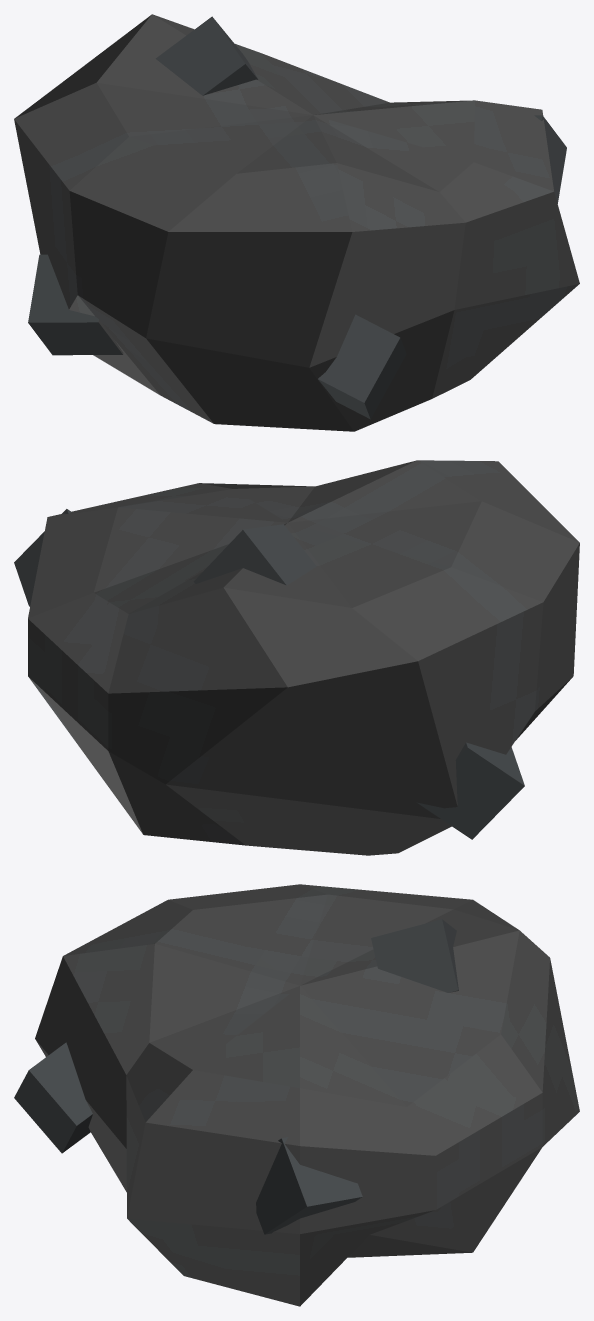
File: meteor2.fbx
3 renders of one model, top to bottom at view 1: azimuth 30°, elevation 25°; view 2: azimuth 150°, elevation 25°; view 3: azimuth 270°, elevation 25°, orthographic. The views are drawn at different scales.
Parts seen in each view (by area): view 1: meteorBase, meteorcube2, meteorcube4, meteorcube1, meteorcube3; view 2: meteorBase, meteorcube4, meteorcube1, meteorcube3; view 3: meteorBase, meteorcube2, meteorcube3, meteorcube1.
Boxes of the visible parts, <box> form: meteorBase: <box>14,14,579,431</box>; meteorcube2: <box>318,314,406,419</box>; meteorcube4: <box>28,254,123,355</box>; meteorcube1: <box>155,16,258,95</box>; meteorcube3: <box>534,115,566,203</box>; meteorBase: <box>28,460,579,855</box>; meteorcube4: <box>416,742,524,839</box>; meteorcube1: <box>193,524,316,585</box>; meteorcube3: <box>14,509,71,606</box>; meteorBase: <box>35,884,579,1306</box>; meteorcube2: <box>14,1042,92,1153</box>; meteorcube3: <box>256,1137,362,1234</box>; meteorcube1: <box>371,919,458,992</box>.
Size of the model in its own units: 98 by 59.72 by 94.76.
Materials: 1 (1 with a texture image).
